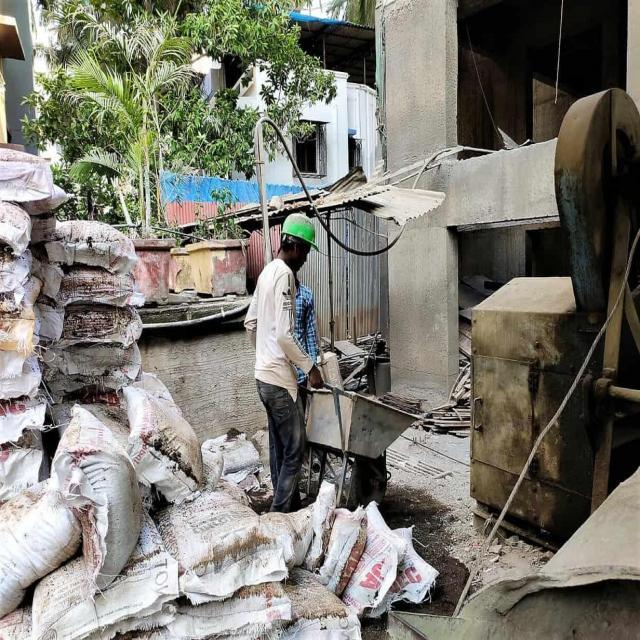safety_helmet: (278, 210, 318, 247)
